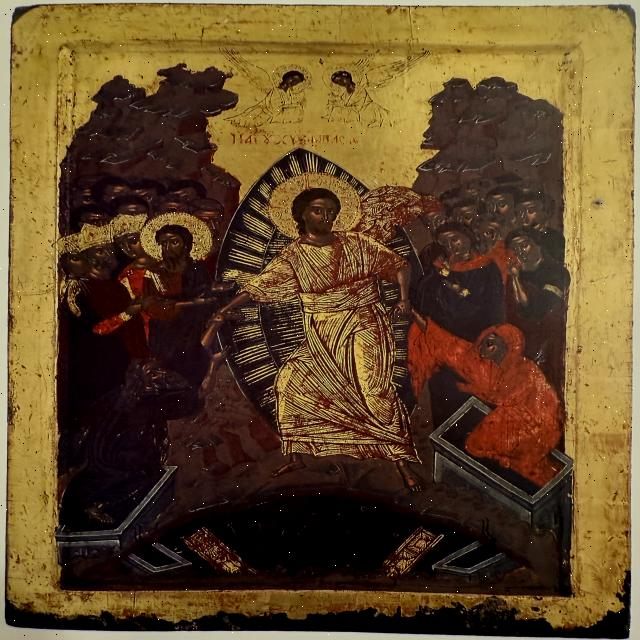angel: (203, 40, 319, 140), (319, 41, 433, 139)
aura: (271, 173, 367, 241), (138, 214, 214, 268), (273, 66, 315, 98), (322, 64, 366, 93)
christ: (215, 148, 445, 500)
crown: (68, 223, 114, 255), (104, 215, 150, 239)
saint: (134, 211, 220, 369)
wing: (217, 48, 282, 101), (368, 50, 430, 93)
